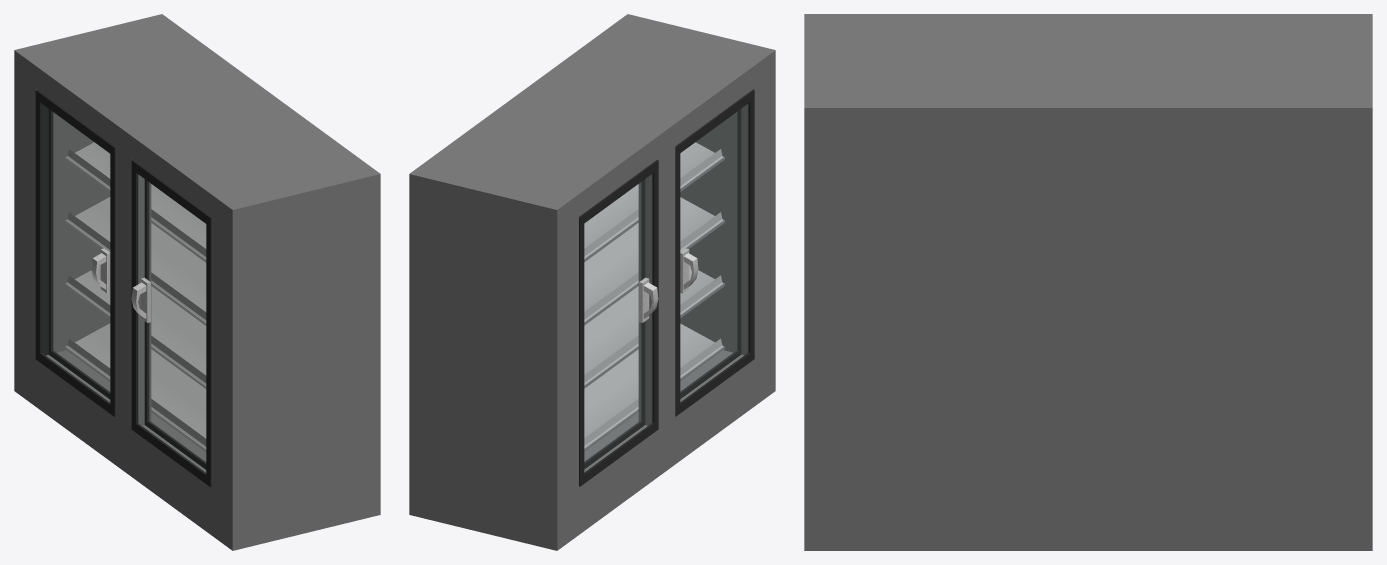
Rendered from Fridge.fbx.
3 renders of one model, left to right at view 1: azimuth 30°, elevation 25°; view 2: azimuth 150°, elevation 25°; view 3: azimuth 270°, elevation 25°, orthographic. The views are drawn at different scales.
Visible parts, largest first — view 1: Fridge; view 2: Fridge; view 3: Fridge.
Boxes of the visible parts, x1,y1,x2,y2 form: Fridge: (14,14,380,550); Fridge: (409,14,775,550); Fridge: (804,14,1372,550).
Bounding box in the file's own units: 103 × 213 × 247.
